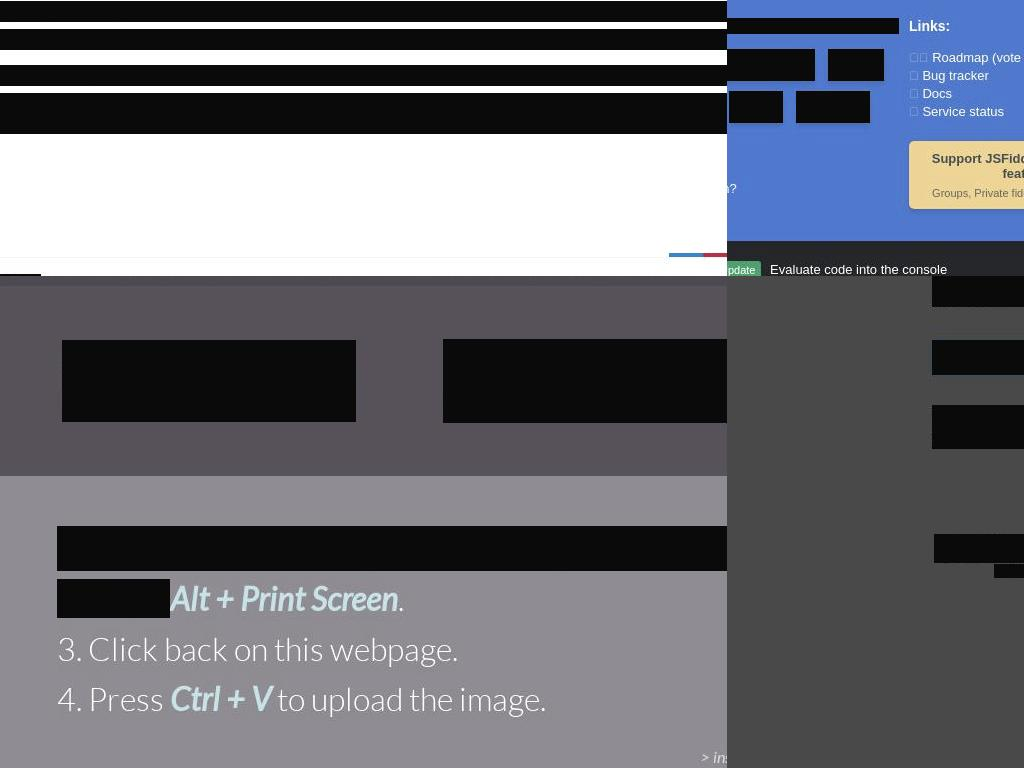button: (909, 141, 1024, 209), (932, 340, 1024, 375), (727, 49, 815, 81), (796, 91, 870, 123), (828, 49, 884, 81), (729, 91, 783, 123)
heading: (443, 339, 727, 423), (0, 1, 727, 22), (0, 65, 727, 86), (727, 18, 899, 34), (909, 18, 1024, 34)
link: (918, 151, 1024, 181), (922, 104, 1005, 119), (932, 187, 1024, 199), (922, 68, 990, 83), (932, 50, 990, 65), (922, 86, 953, 101), (994, 564, 1024, 578)
text: (57, 526, 727, 571), (57, 626, 727, 671), (0, 93, 727, 134), (62, 340, 302, 422), (0, 29, 727, 50), (271, 679, 546, 718), (170, 579, 398, 618), (301, 340, 356, 422), (57, 579, 170, 618), (57, 679, 170, 718), (932, 405, 1024, 449), (170, 679, 271, 718), (932, 276, 1024, 307), (934, 534, 1024, 563), (766, 262, 948, 276), (944, 534, 1024, 548), (988, 50, 1024, 65), (727, 261, 761, 276), (701, 747, 727, 766), (909, 50, 932, 65), (398, 579, 404, 618), (909, 68, 922, 83), (909, 86, 922, 101), (909, 104, 922, 119)
